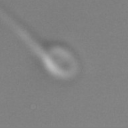normal: (1, 5, 45, 53)
